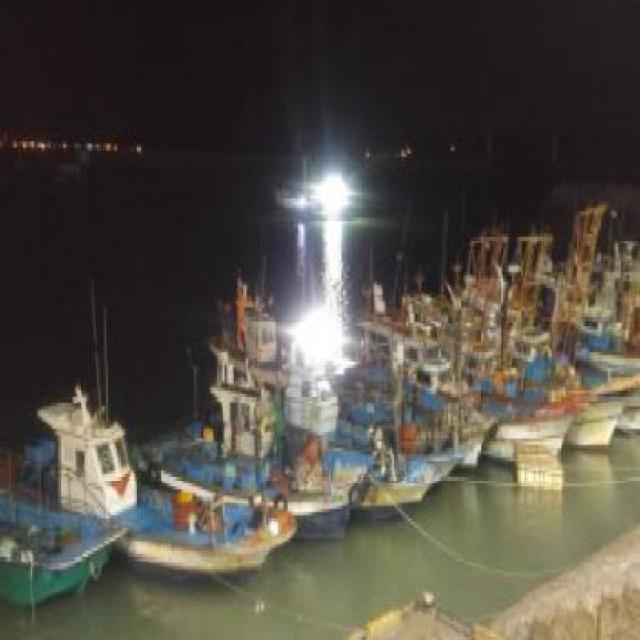fish-b: (8, 369, 283, 587)
